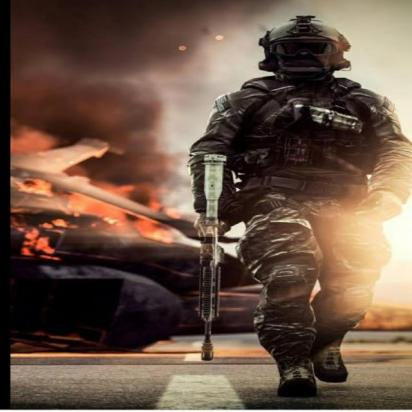Gun: (193, 152, 229, 364)
